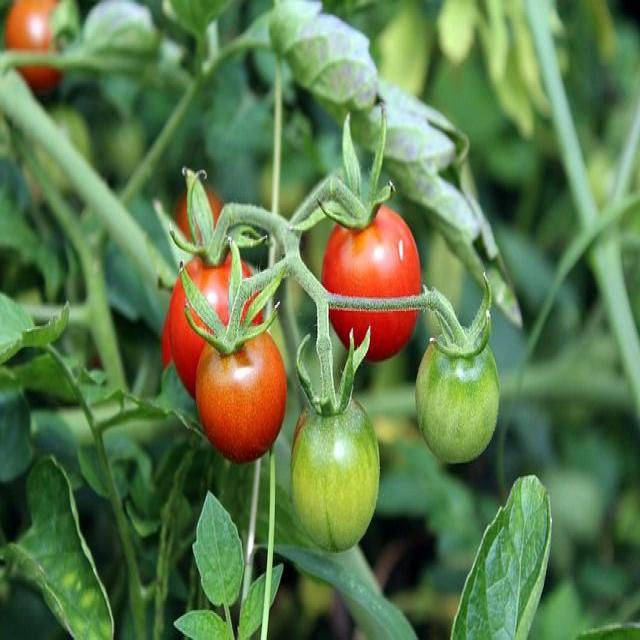level 2: (290, 388, 380, 557), (413, 330, 501, 464)
level 6: (321, 205, 420, 362), (166, 254, 259, 395), (196, 322, 288, 463), (6, 0, 74, 87)
